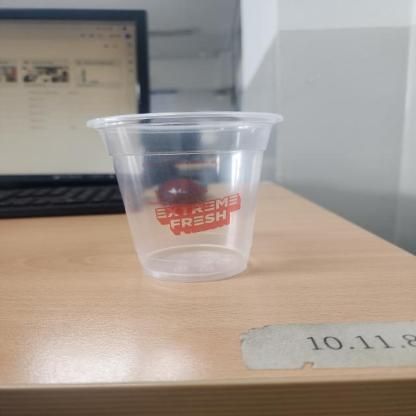Plastic Cup: (88, 111, 284, 281)
